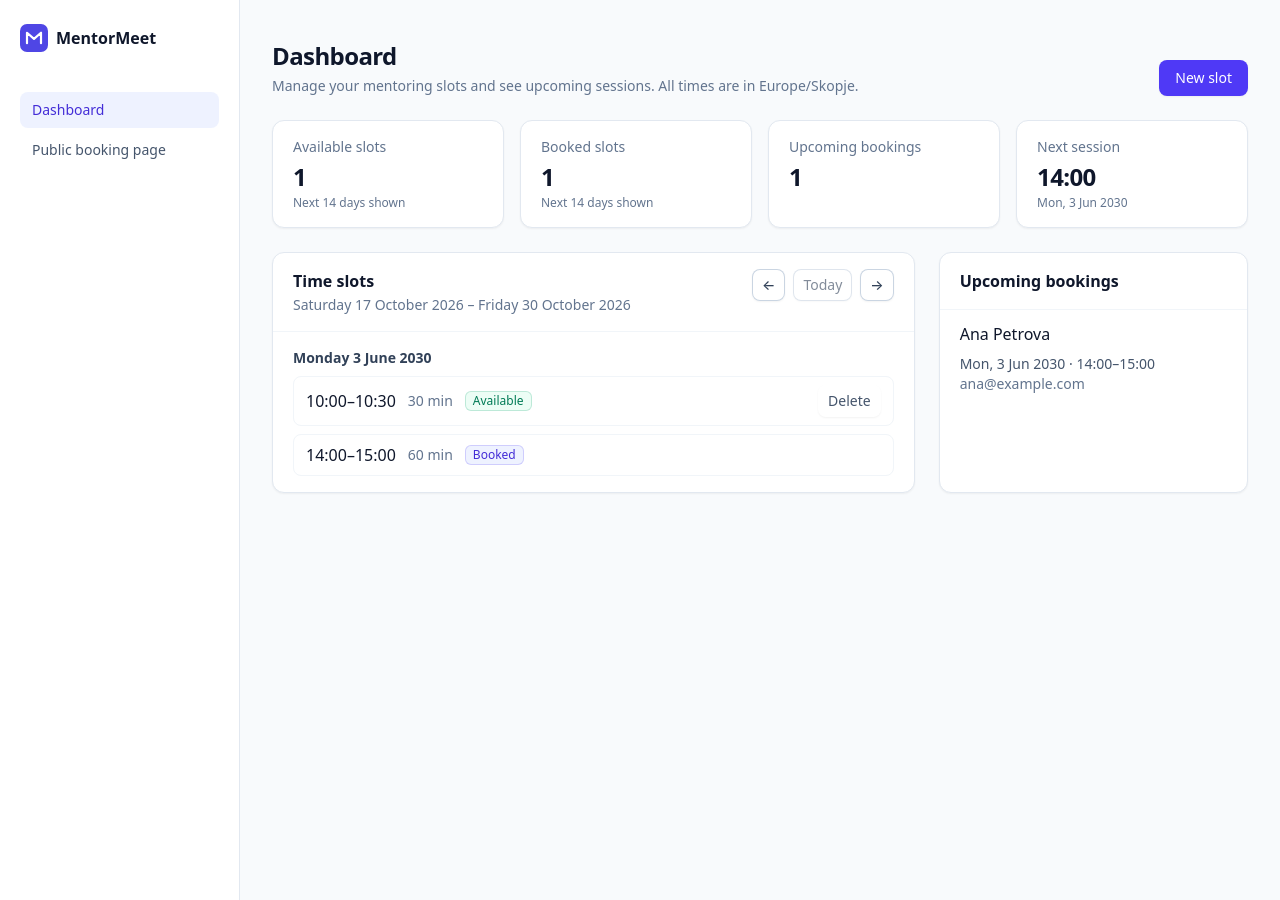
it: DashboardPage › creates a slot with the Europe/Skopje offset and reloads the list
This screenshot has width=1280, height=900.
Expected: the text "10:00–10:30" is shown, [306,389,396,413]
Click the button "New slot": (1204, 78) [1159,60,1248,96]
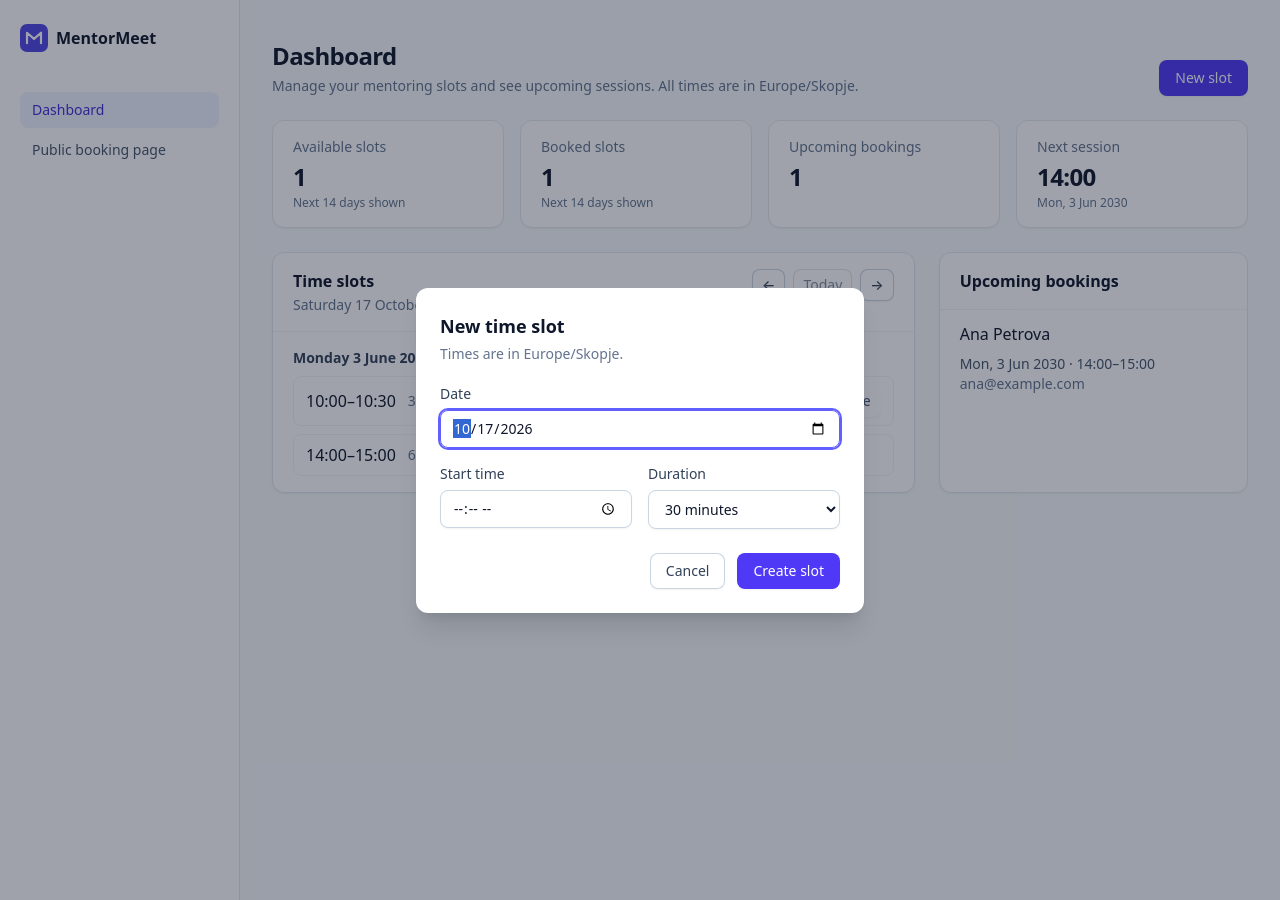
In the date field labelled "Date": (640, 428) [440,410,840,448], type "2030-12-03"
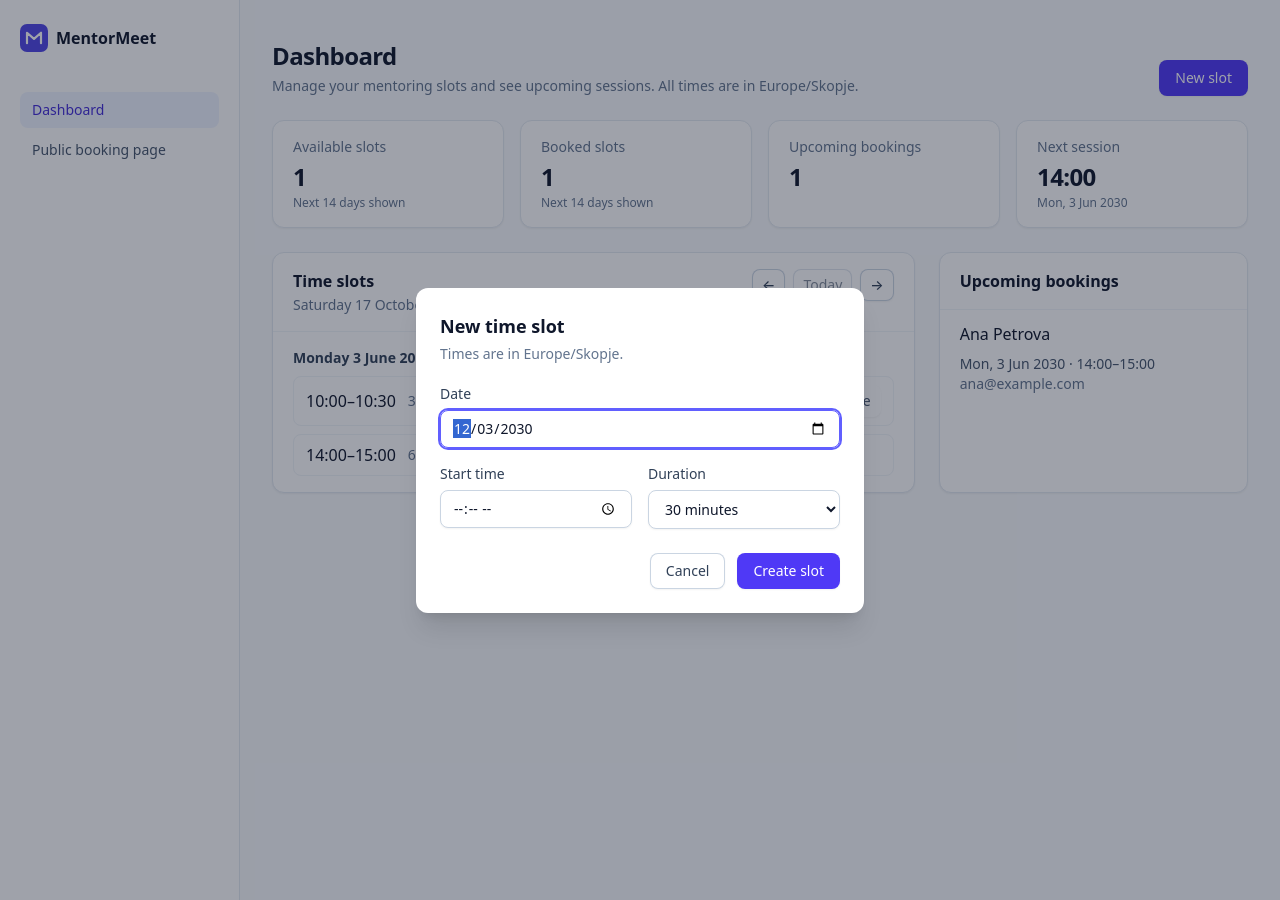
In the time field labelled "Start time": (536, 509) [440,490,632,528], type "09:30"
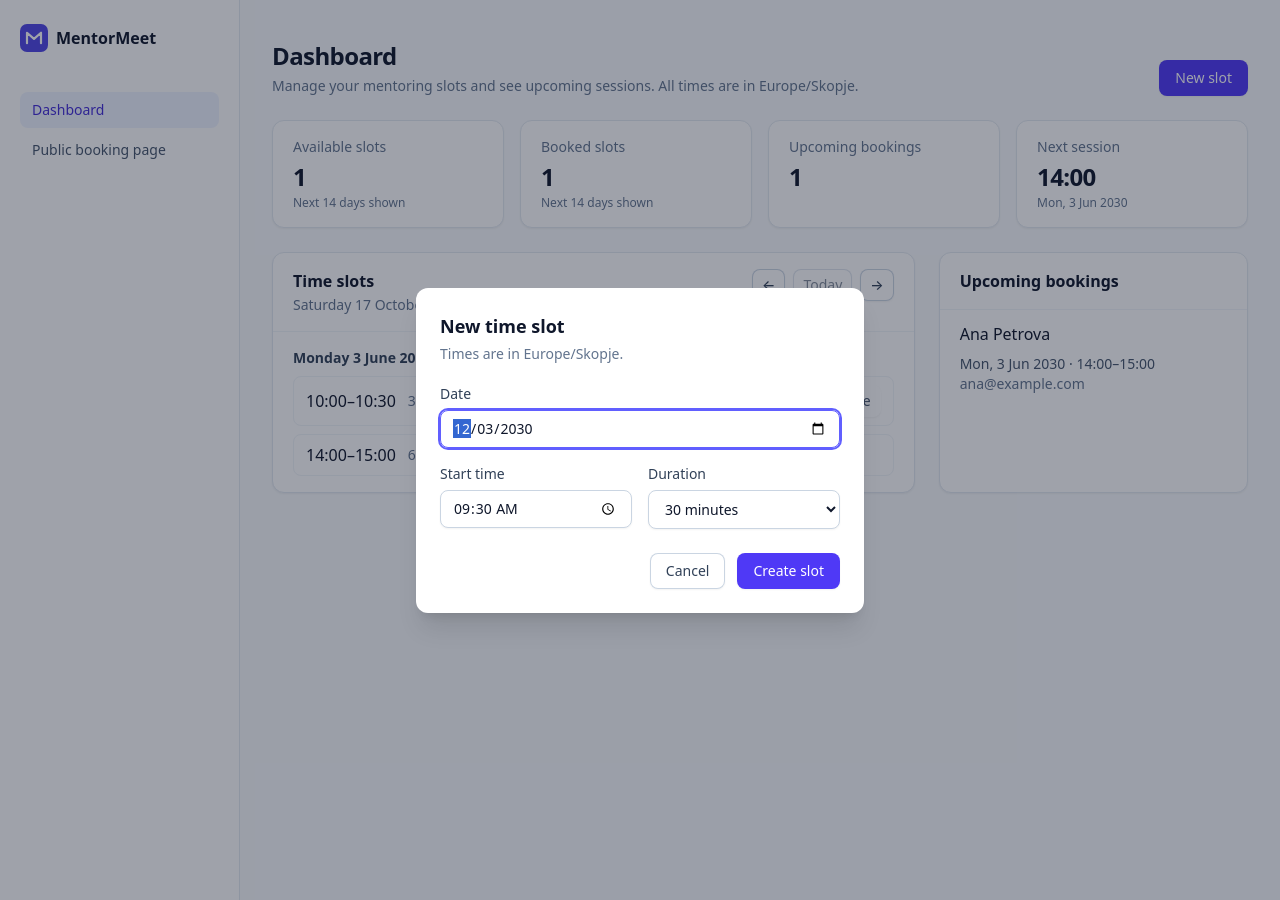
Select "45 minutes" in the dropdown labelled "Duration": (744, 509) [648,490,840,528]
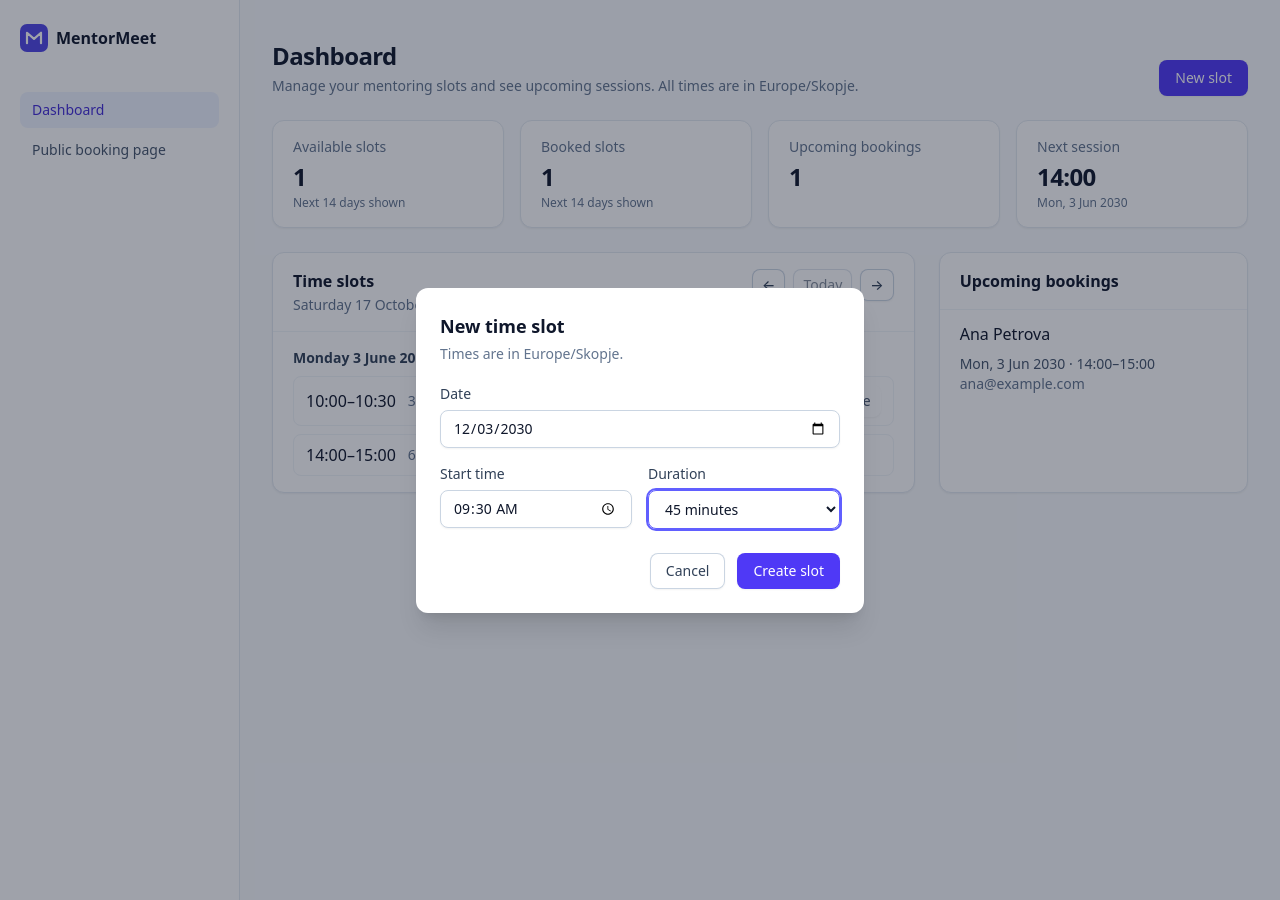
Click the button "Create slot": (789, 570) [738,552,840,588]
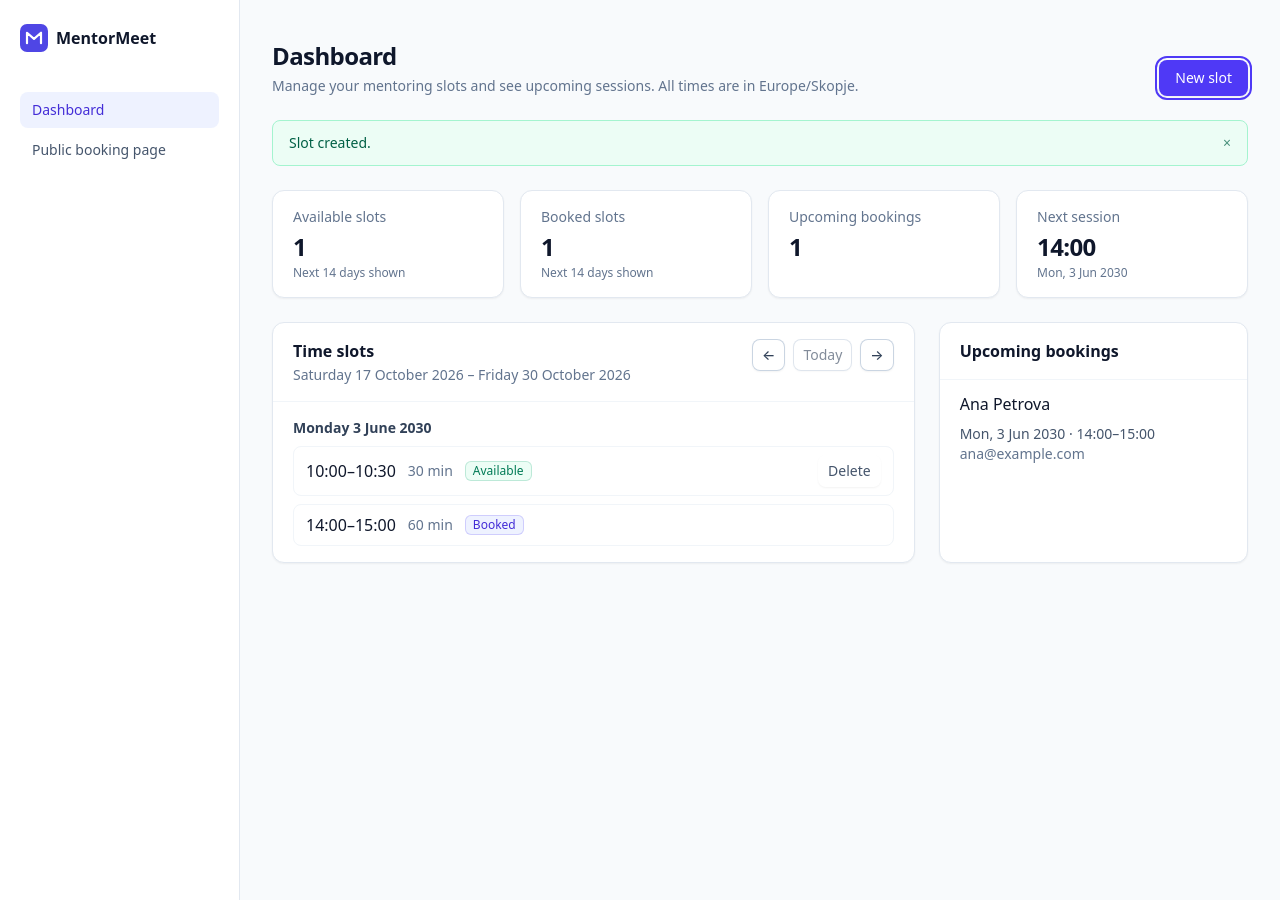
Expected: the text "Slot created." is shown, [289,133,371,152]
Expected: the dialog is gone
